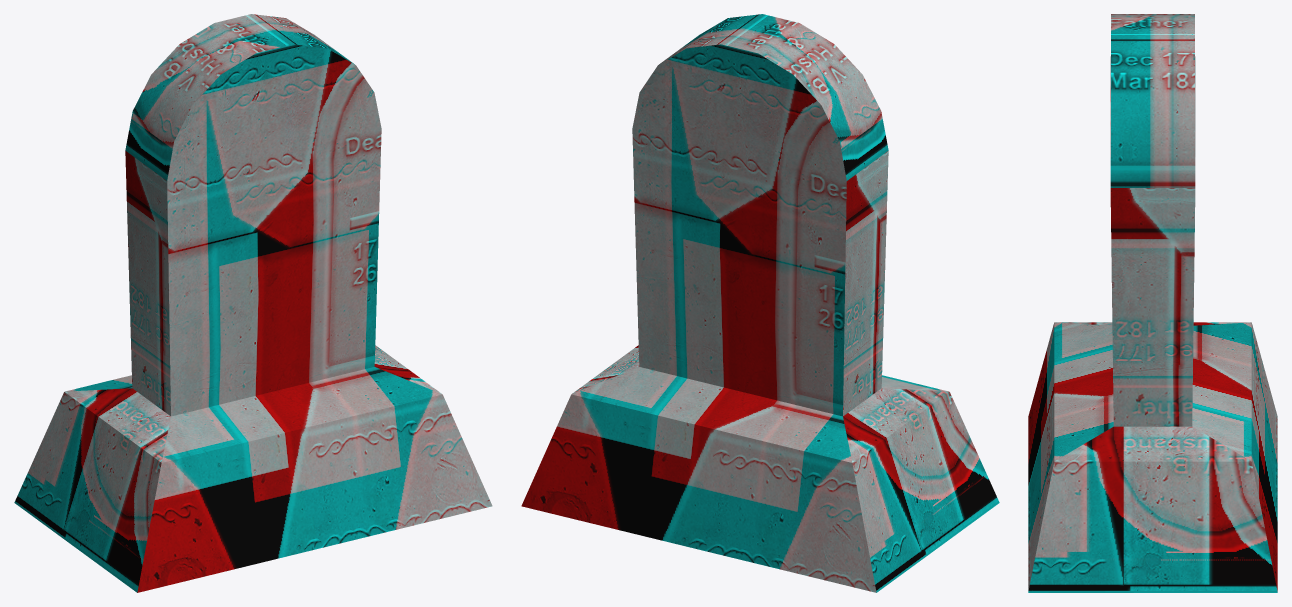
Rendered from grave1.FBX.
The picture shows the model from 3 angles, left to right: view 1: azimuth 30°, elevation 25°; view 2: azimuth 150°, elevation 25°; view 3: azimuth 270°, elevation 25°; orthographic projection.
Visible parts, largest first — view 1: grave1; view 2: grave1; view 3: grave1.
Part boxes in pixels (left/top/right/bottom): grave1: left=14, top=14, right=492, bottom=592; grave1: left=521, top=14, right=999, bottom=592; grave1: left=1028, top=14, right=1277, bottom=592.
Size of the model in its own units: 50 by 63.32 by 30.
